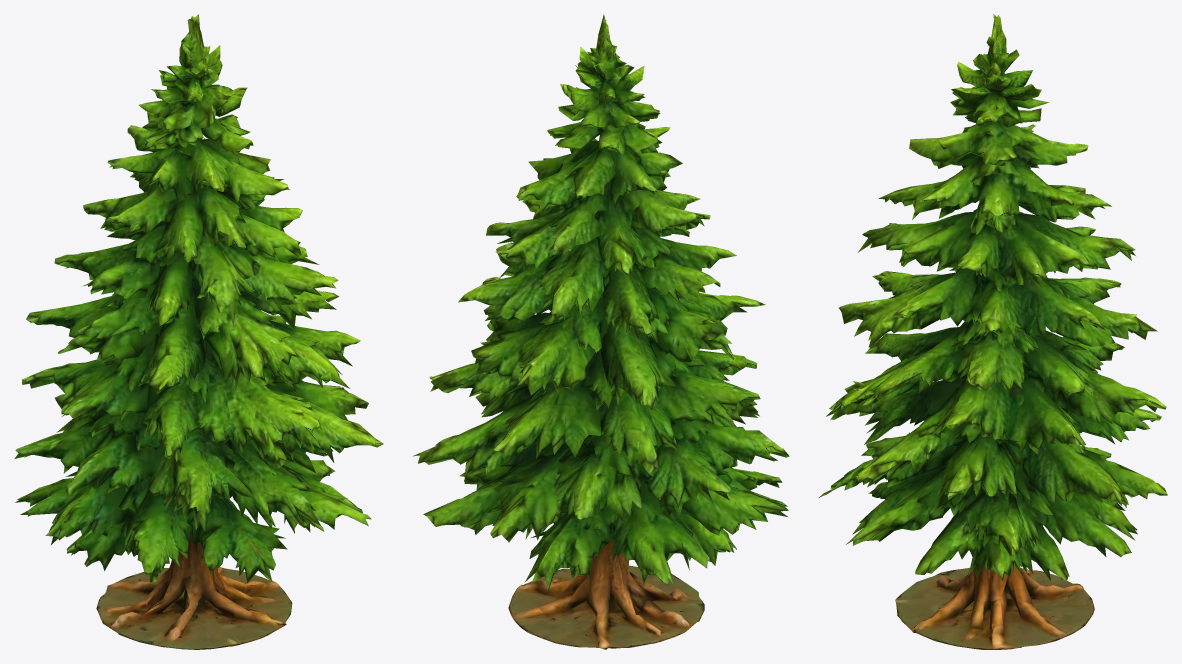
The model's file is tree.glb.
3 views of the same model, side by side, from view 1: azimuth 30°, elevation 25°; view 2: azimuth 150°, elevation 25°; view 3: azimuth 270°, elevation 25° (orthographic).
Parts seen in each view (by area): view 1: tripo_node_2d3c30d7-e195-4695-ac85-f65942fefe71; view 2: tripo_node_2d3c30d7-e195-4695-ac85-f65942fefe71; view 3: tripo_node_2d3c30d7-e195-4695-ac85-f65942fefe71.
Part boxes in pixels (box(x1,y1,x2,y2)): tripo_node_2d3c30d7-e195-4695-ac85-f65942fefe71: box(14, 14, 383, 649); tripo_node_2d3c30d7-e195-4695-ac85-f65942fefe71: box(412, 14, 789, 649); tripo_node_2d3c30d7-e195-4695-ac85-f65942fefe71: box(819, 14, 1167, 649).
Bounding box in the file's own units: 0.5623 × 0.9711 × 0.5158.
1 material, 1 textured.
